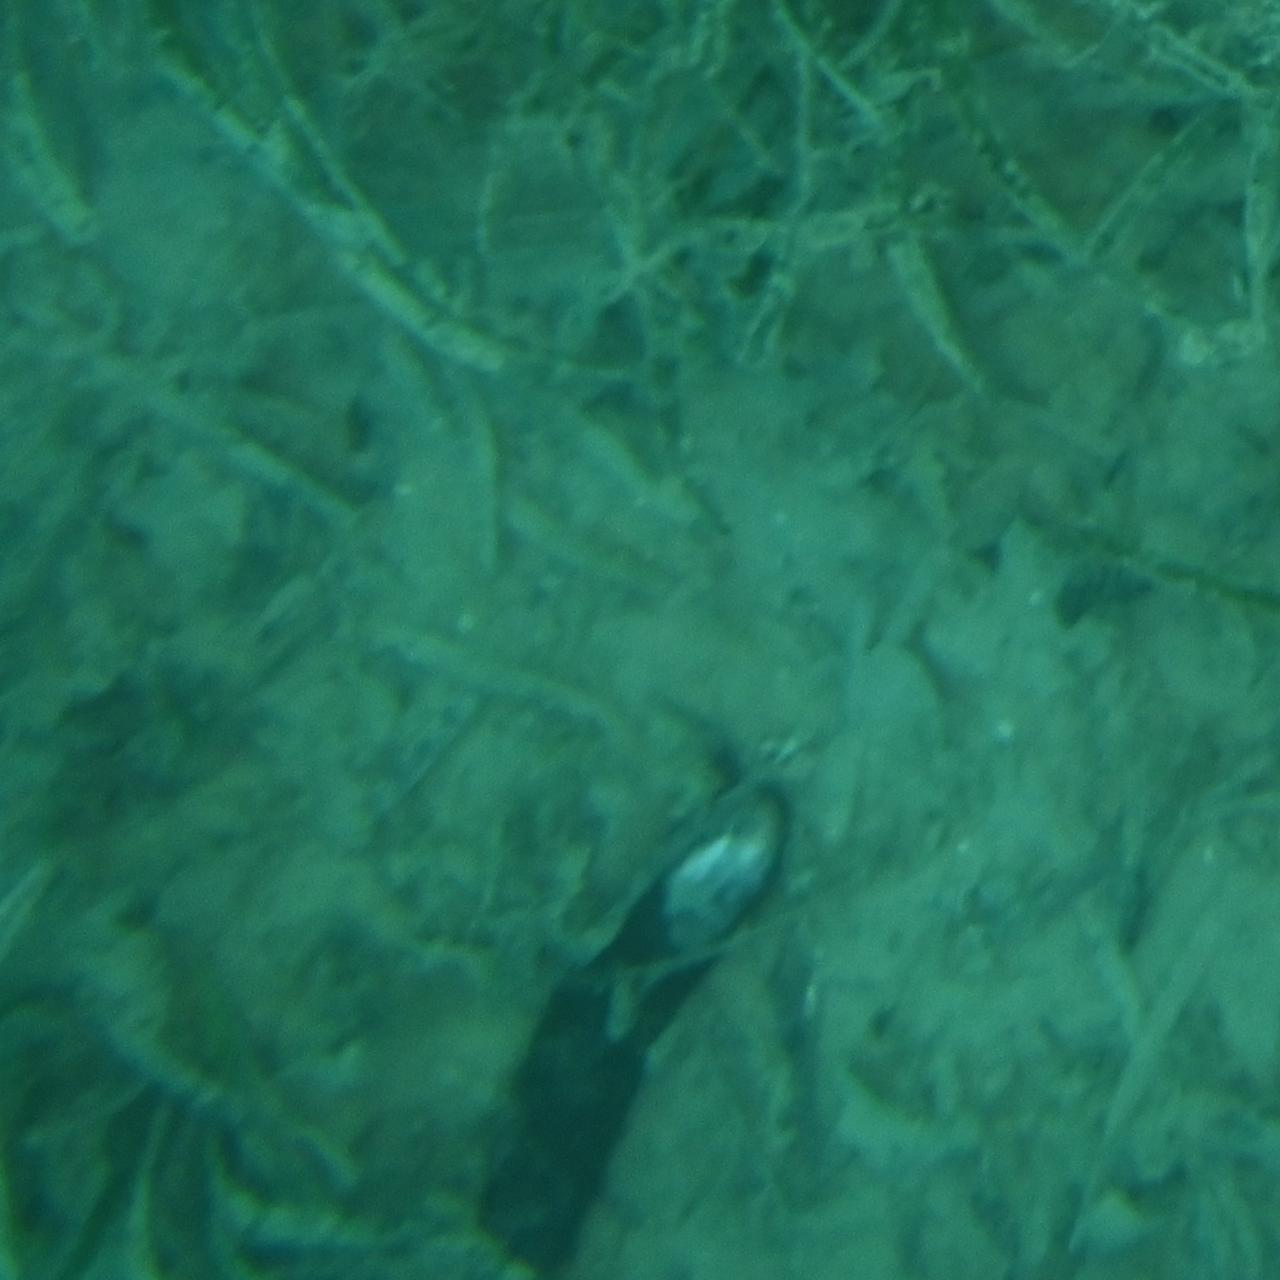Holothuria tubulosa: (477, 776, 803, 1280)
